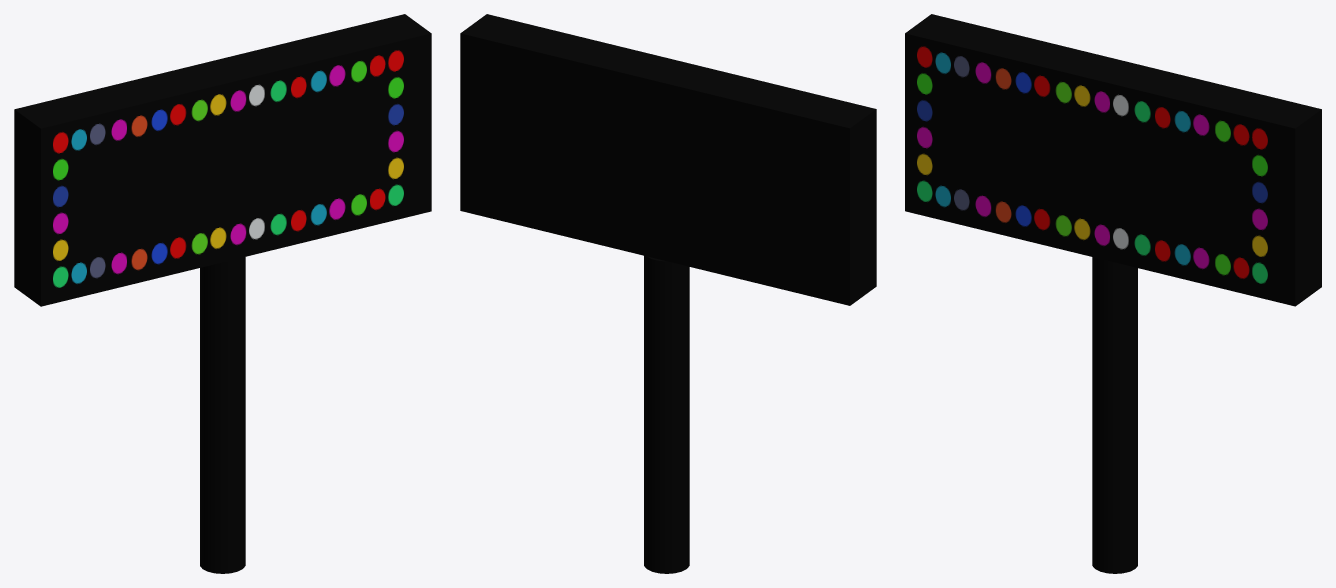
The model's file is Anuncion_neon.obj.
3 views of the same model, side by side, from view 1: azimuth 30°, elevation 25°; view 2: azimuth 150°, elevation 25°; view 3: azimuth 330°, elevation 25° (orthographic).
Visible parts, largest first — view 1: Box001, Cylinder001; view 2: Box001, Cylinder001; view 3: Box001, Cylinder001.
Part boxes in pixels (x1,y1,x2,y2): Box001: (14,14,431,306); Cylinder001: (200,257,245,573); Box001: (460,14,876,305); Cylinder001: (644,256,689,573); Box001: (905,14,1321,306); Cylinder001: (1092,257,1137,573).
Size of the model in its own units: 6.49 by 7.83 by 0.7629.
